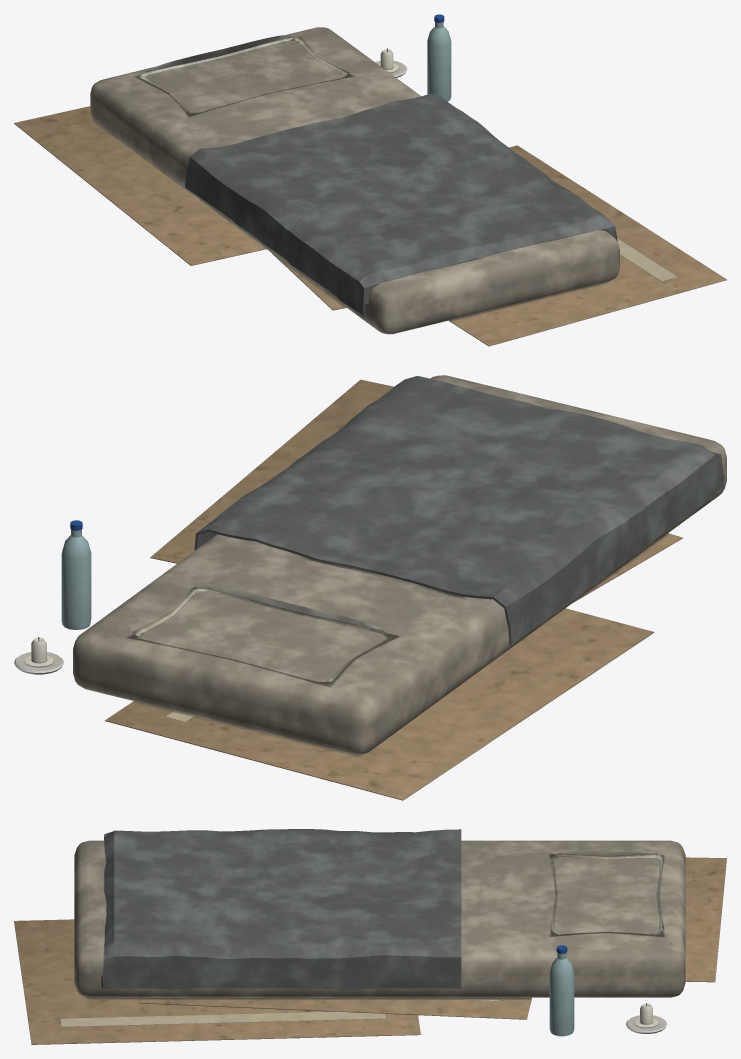
File: colchao_chao.glb
The picture shows the model from 3 angles, top to bottom: view 1: azimuth 30°, elevation 25°; view 2: azimuth 150°, elevation 25°; view 3: azimuth 270°, elevation 25°; orthographic projection. The views are drawn at different scales.
Visible parts, largest first — view 1: colchao; view 2: colchao; view 3: colchao.
Part boxes in pixels (x1=…): colchao: x1=14, y1=14, x2=726, y2=346; colchao: x1=14, y1=375, x2=726, y2=800; colchao: x1=14, y1=829, x2=726, y2=1044.
Size of the model in its own units: 1.41 by 0.285 by 2.19.
1 material, 1 textured.
